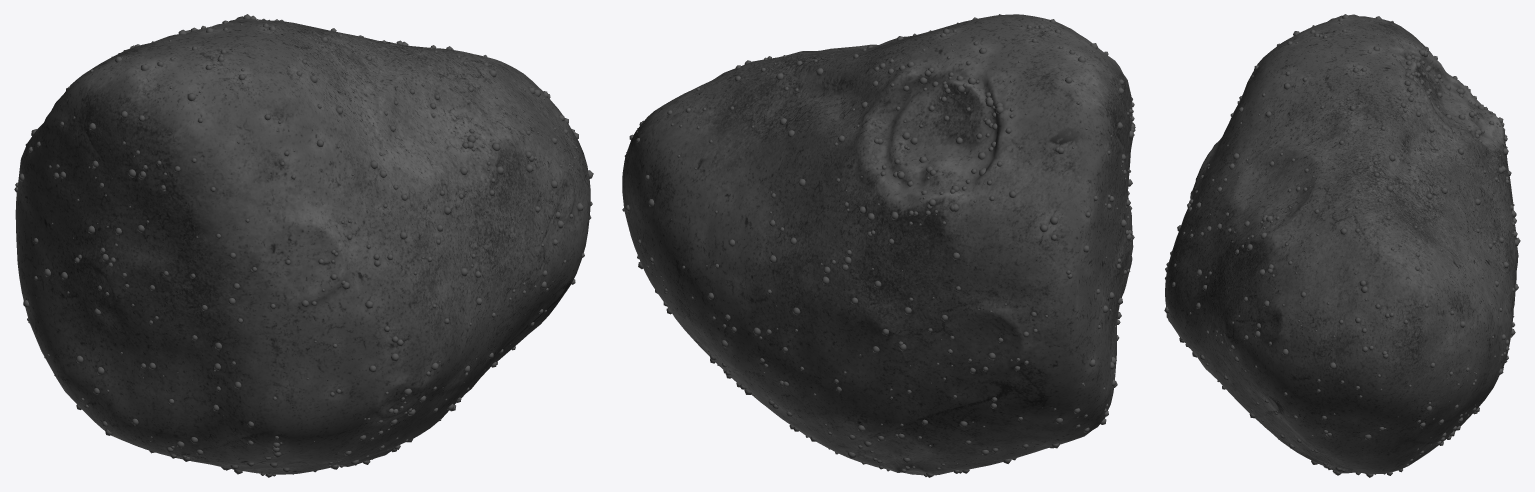
3 renders of one model, left to right at view 1: azimuth 30°, elevation 25°; view 2: azimuth 150°, elevation 25°; view 3: azimuth 270°, elevation 25°, orthographic. The views are drawn at different scales.
Parts seen in each view (by area): view 1: Daphne_LP, Daphe_LP_Debris; view 2: Daphne_LP, Daphe_LP_Debris; view 3: Daphne_LP, Daphe_LP_Debris.
Part boxes in pixels (x1,y1,x2,y2): Daphne_LP: (15,16,590,474); Daphe_LP_Debris: (14,14,593,477); Daphne_LP: (622,14,1133,475); Daphe_LP_Debris: (622,14,1135,477); Daphne_LP: (1165,14,1518,473); Daphe_LP_Debris: (1164,14,1520,477).
Bounding box in the file's own units: 234 × 197 × 168.
2 materials, 1 textured.
